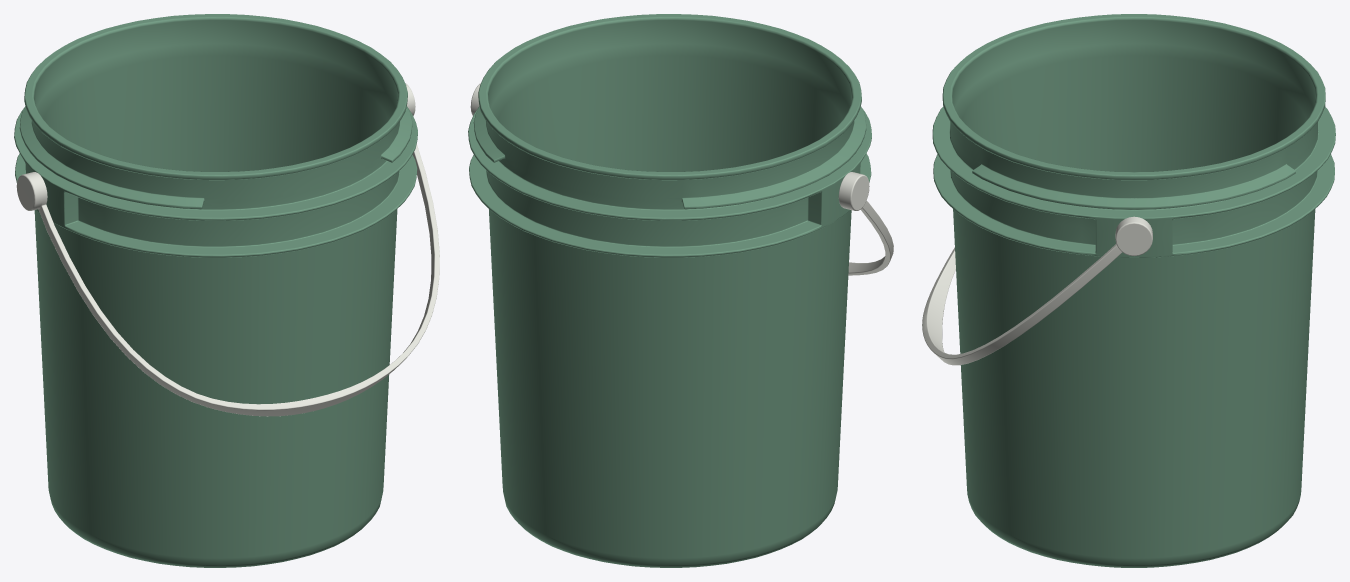
File: pail_plastic_green_a02.glb
The picture shows the model from 3 angles, left to right: view 1: azimuth 30°, elevation 25°; view 2: azimuth 150°, elevation 25°; view 3: azimuth 270°, elevation 25°; orthographic projection.
Bounding box in the file's own units: 0.196 × 0.2 × 0.1844.
